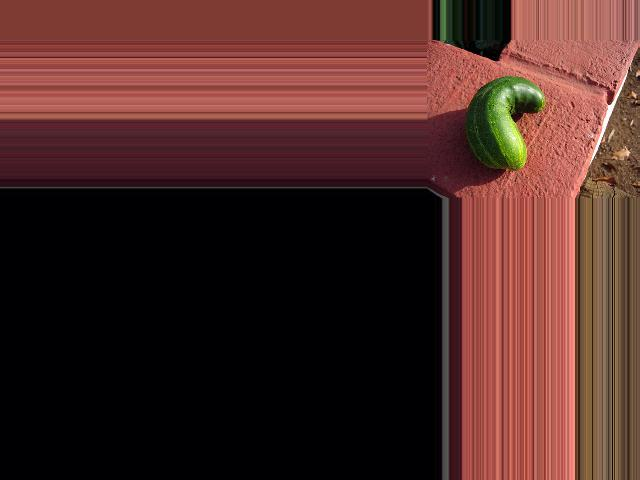cucumber: (466, 76, 546, 170)
